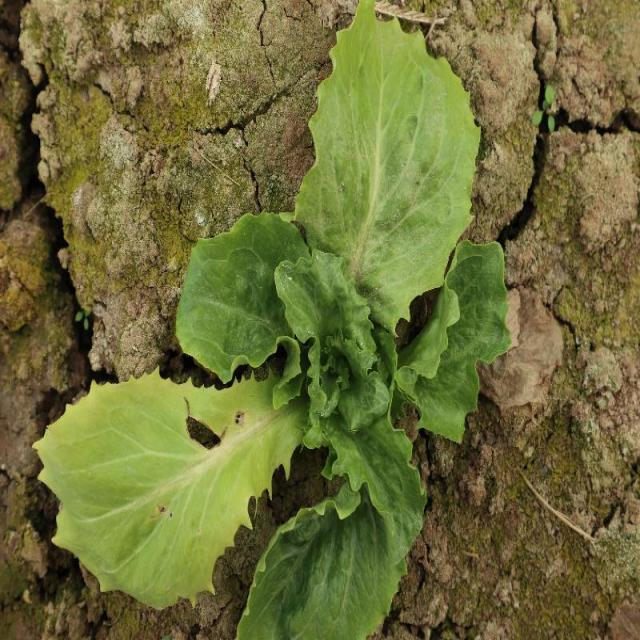crop: (179, 209, 508, 640)
